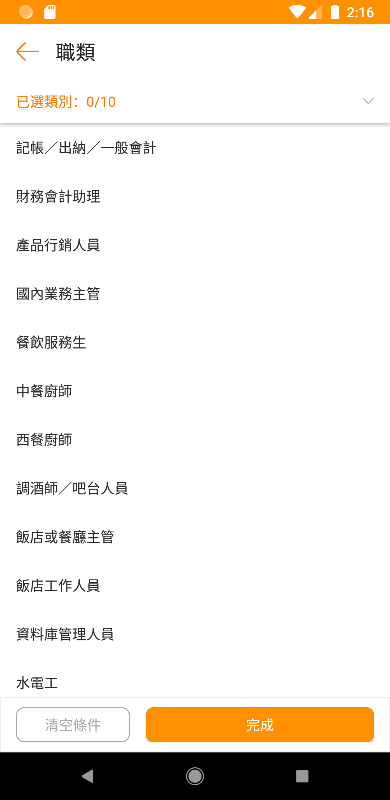button: (143, 703, 380, 745), (12, 699, 135, 745), (12, 37, 44, 68), (349, 90, 383, 117)
